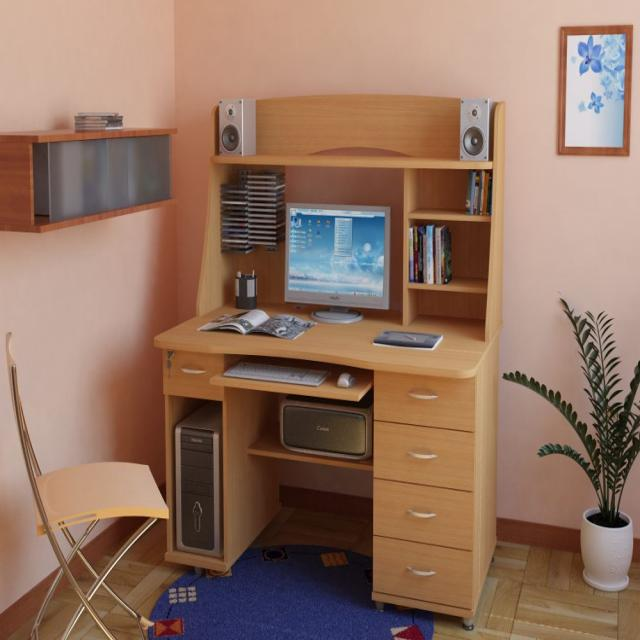chair: (0, 341, 140, 623)
computer: (284, 188, 416, 340)
desk: (174, 128, 497, 601)
